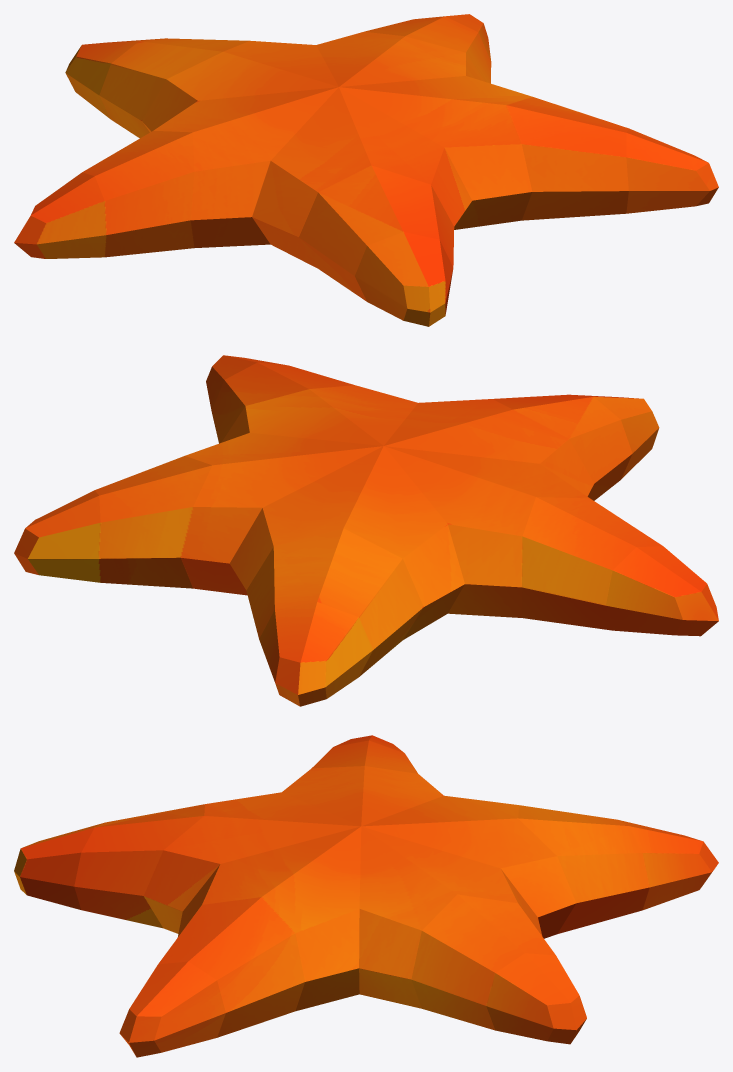
Rendered from starfish1.glb.
3 renders of one model, top to bottom at view 1: azimuth 30°, elevation 25°; view 2: azimuth 150°, elevation 25°; view 3: azimuth 270°, elevation 25°, orthographic. The views are drawn at different scales.
Parts seen in each view (by area): view 1: starfish 1 (correct); view 2: starfish 1 (correct); view 3: starfish 1 (correct).
Part boxes in pixels (box(x1,y1,x2,y2)): starfish 1 (correct): box(14, 14, 718, 326); starfish 1 (correct): box(14, 355, 718, 706); starfish 1 (correct): box(14, 735, 718, 1057).
Bounding box in the file's own units: 2.96 × 0.5827 × 3.01.
Materials: 1 (1 with a texture image).
